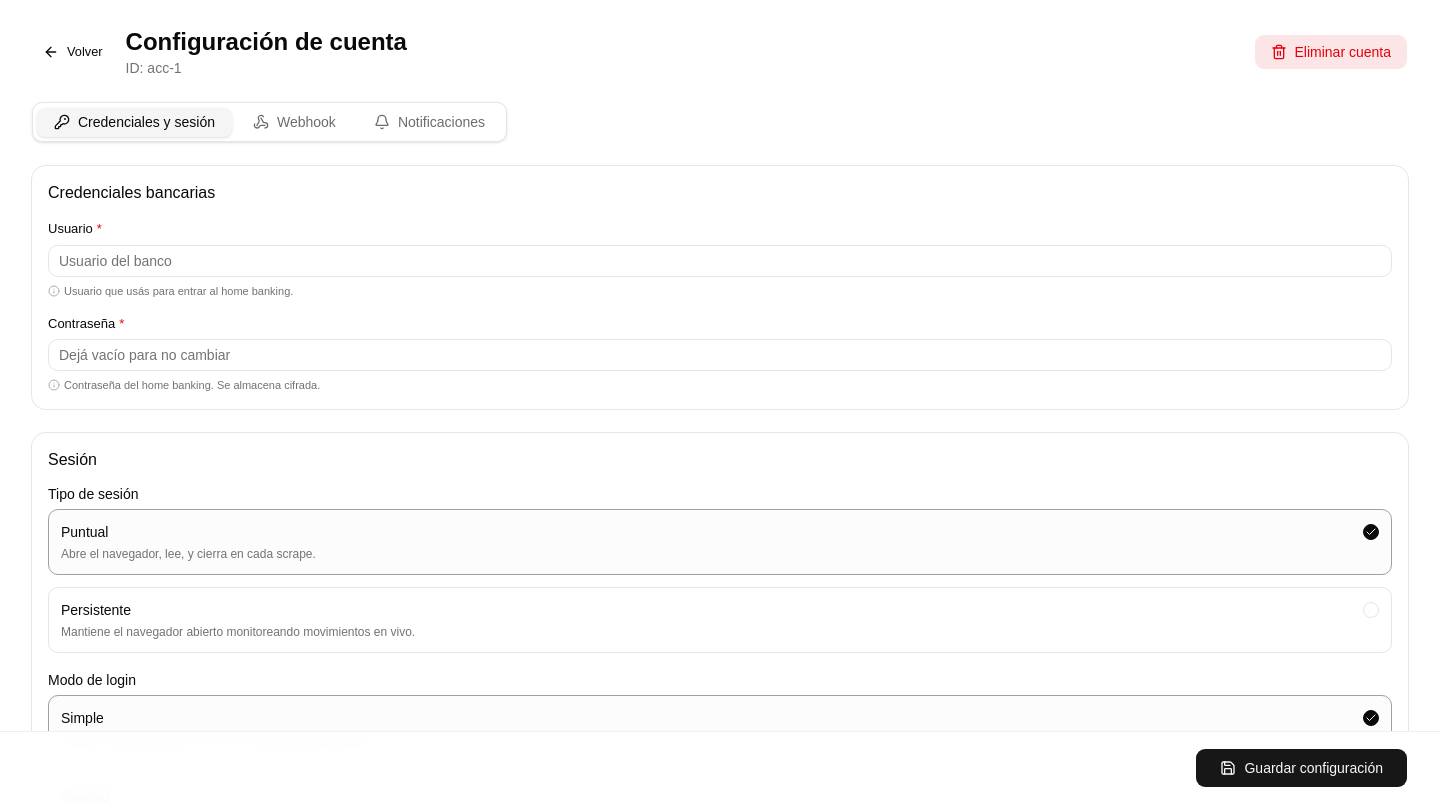
AccountConfig page › shows credentials and session in the same tab and switches to the Webhook tab
Check: the text "Credenciales bancarias" is shown, box [48, 184, 215, 201]
Check: the text "Tipo de sesión" is shown, box [48, 486, 138, 502]
Click the tab "Webhook" at [294, 122], box [236, 108, 353, 136]
(page scrolled)
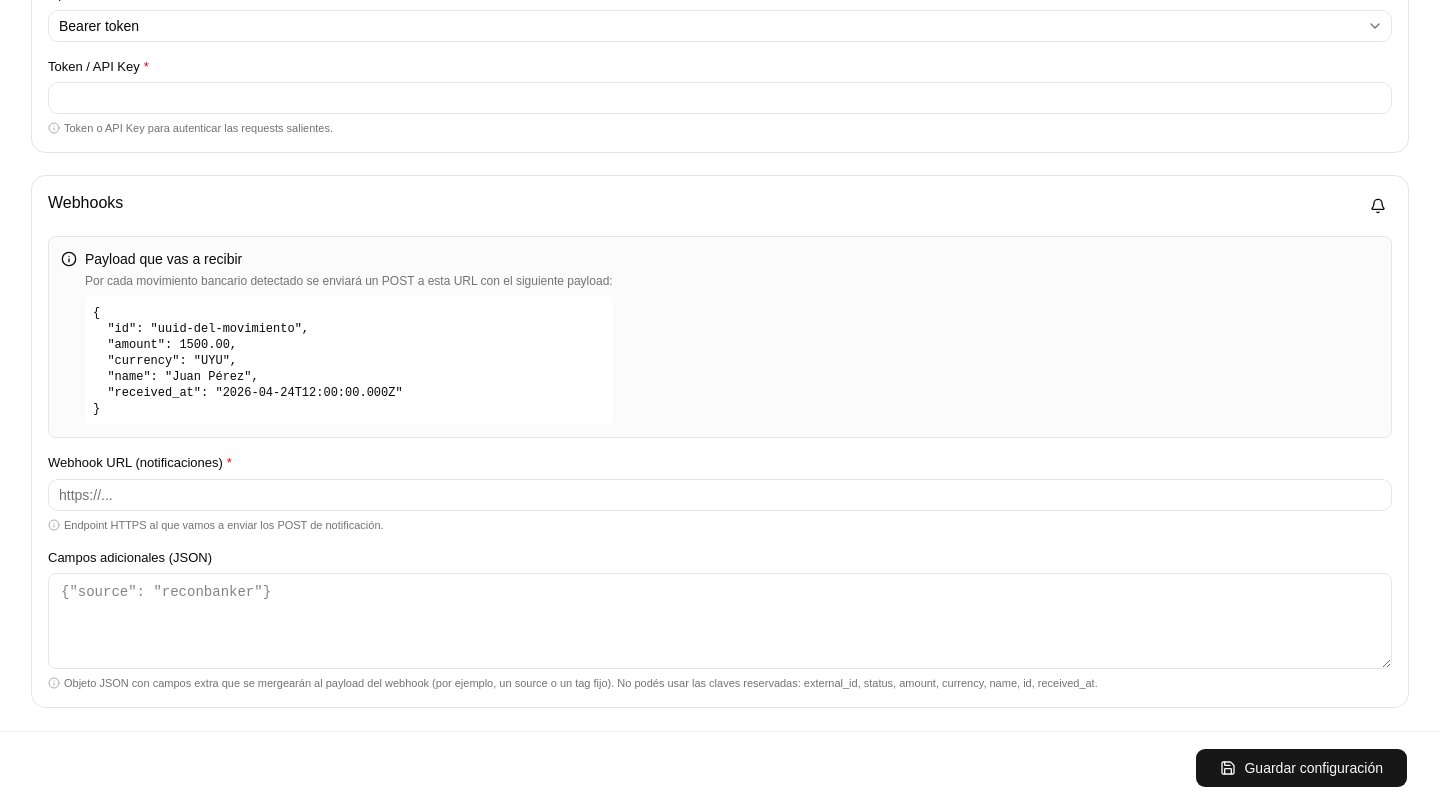
Check: the text "Webhook URL (notificaciones)" is shown, box [48, 454, 223, 473]
